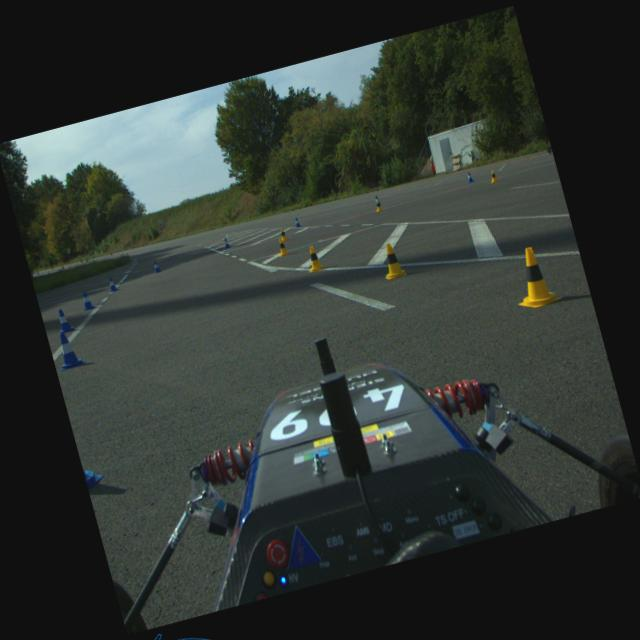blue_cone: (50, 326, 86, 371), (53, 307, 75, 334), (80, 290, 94, 310), (106, 276, 118, 292), (152, 259, 162, 273), (465, 170, 474, 182), (293, 216, 301, 228), (222, 238, 230, 248), (374, 194, 381, 204)
yellow_cone: (504, 242, 562, 311), (377, 240, 406, 280), (302, 242, 326, 272), (275, 236, 290, 258), (488, 168, 499, 182), (279, 226, 288, 242), (373, 198, 383, 212)
